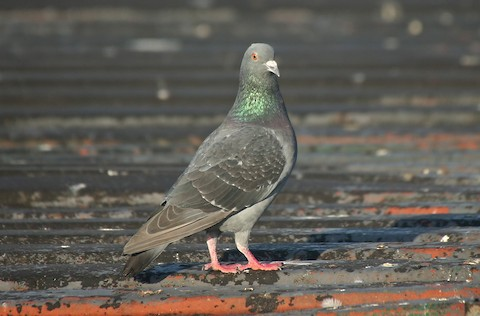pigeon: (117, 40, 300, 288)
